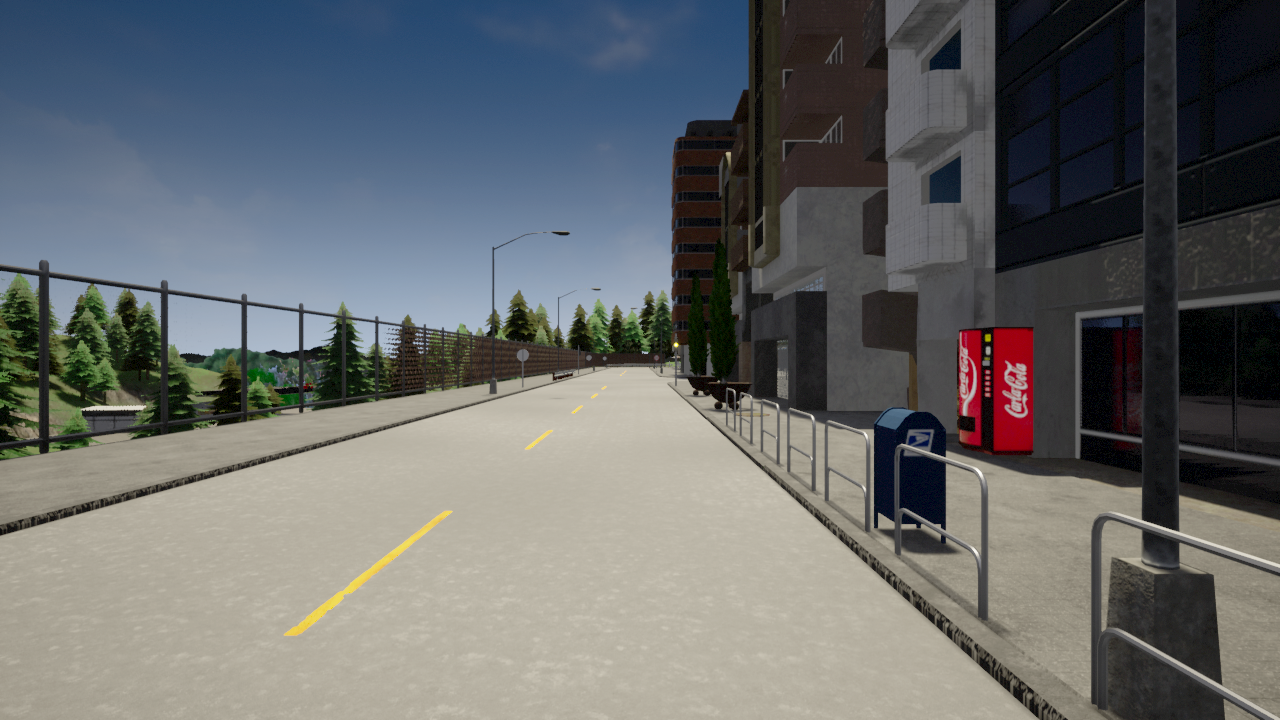yellow: (673, 337, 679, 352)
